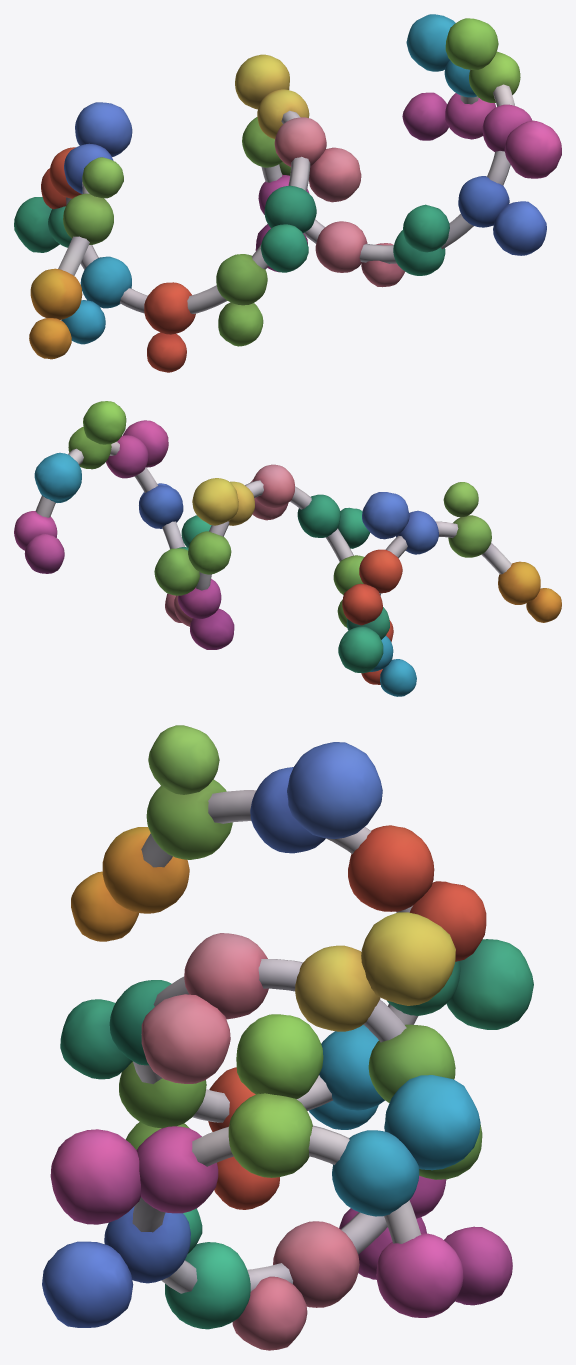
File: polypeptide-chain.glb
3 views of the same model, one above another, from view 1: azimuth 30°, elevation 25°; view 2: azimuth 150°, elevation 25°; view 3: azimuth 270°, elevation 25° (orthographic). The views are drawn at different scales.
Parts seen in each view (by area): view 1: polypeptide-chain-residues, polypeptide-chain-backbone; view 2: polypeptide-chain-residues, polypeptide-chain-backbone; view 3: polypeptide-chain-residues, polypeptide-chain-backbone.
Part boxes in pixels (x1,y1,x2,y2): polypeptide-chain-residues: [14, 14, 561, 372]; polypeptide-chain-backbone: [58, 69, 514, 314]; polypeptide-chain-residues: [14, 401, 561, 696]; polypeptide-chain-backbone: [35, 441, 511, 595]; polypeptide-chain-residues: [42, 725, 533, 1350]; polypeptide-chain-backbone: [132, 790, 421, 1293].
Size of what is drawn, in the model's own units: 2.35 by 1.08 by 1.08.
